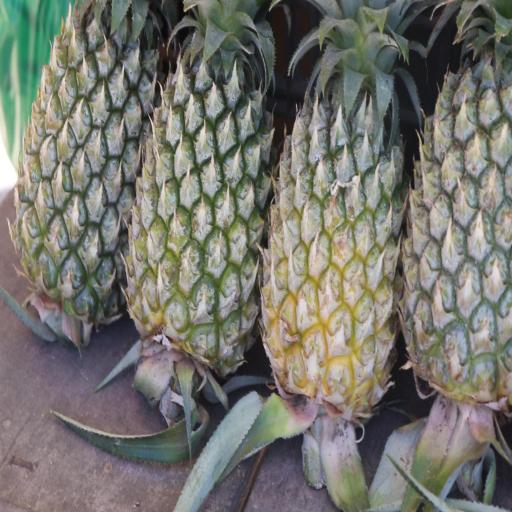------------------------------: (256, 1, 410, 433)
